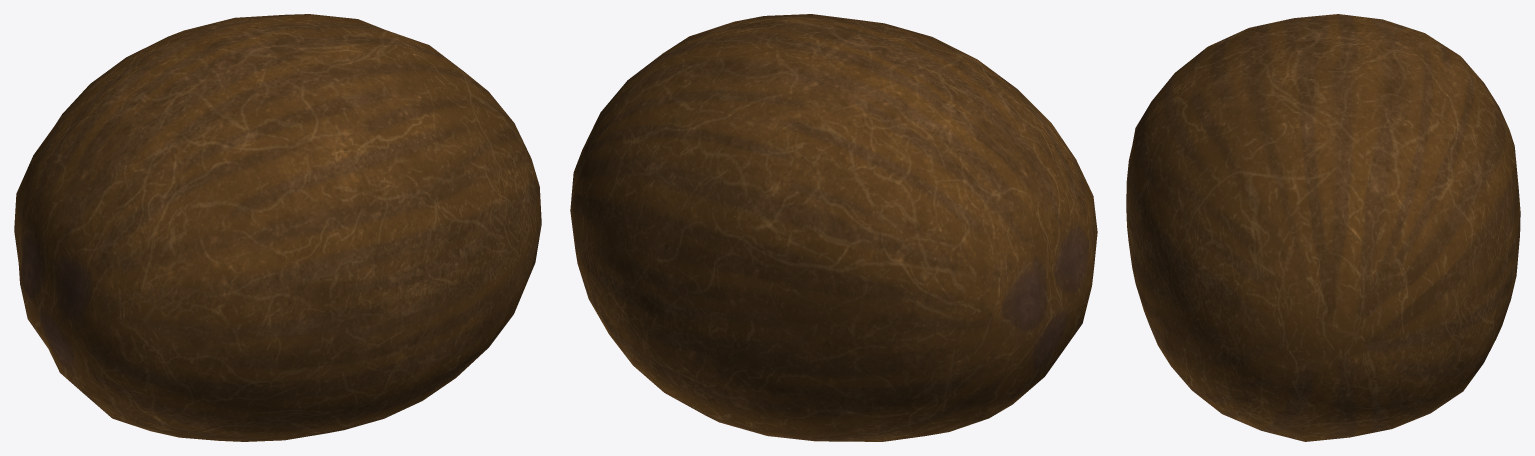
File: coconut.glb
3 renders of one model, left to right at view 1: azimuth 30°, elevation 25°; view 2: azimuth 150°, elevation 25°; view 3: azimuth 270°, elevation 25°, orthographic. The views are drawn at different scales.
Visible parts, largest first — view 1: Coconut; view 2: Coconut; view 3: Coconut.
Boxes of the visible parts, bbox=[...] form: Coconut: bbox=[14, 14, 541, 441]; Coconut: bbox=[570, 14, 1097, 441]; Coconut: bbox=[1126, 14, 1520, 441].
Size of the model in its own units: 6.76 by 5.19 by 5.17.
Materials: 1 (1 with a texture image).
